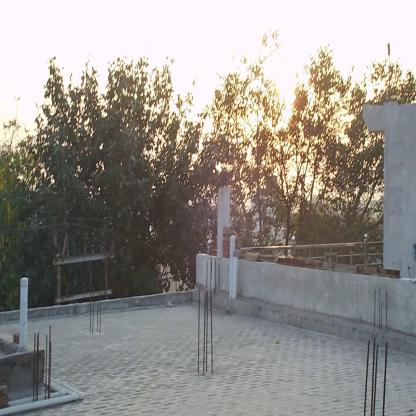other: (217, 3, 363, 189)
